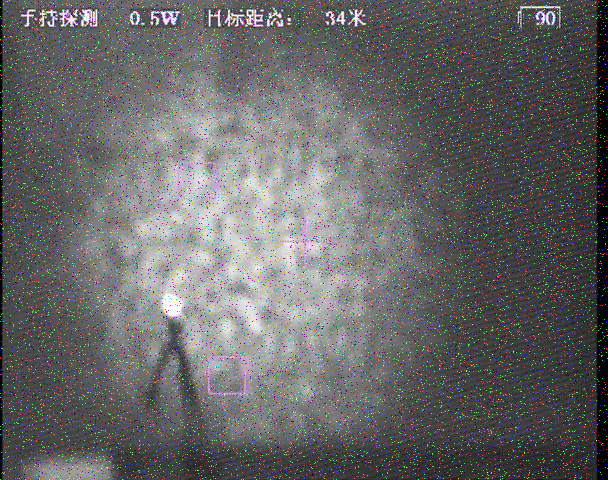my: (159, 292, 185, 317)
